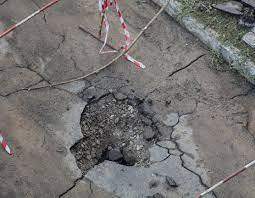alligator-crack: (2, 1, 144, 100), (155, 103, 222, 198)
pothole: (65, 95, 163, 170)
